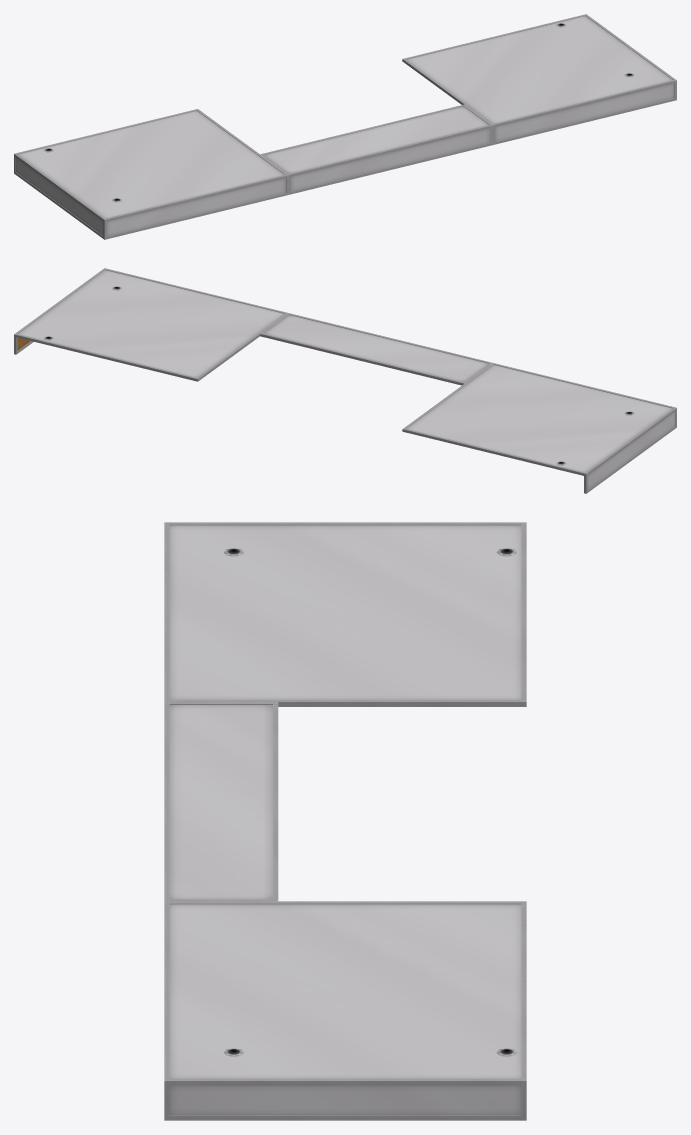
The model's file is jsf_4P_s04_c04_t02_DX.fbx.
The picture shows the model from 3 angles, top to bottom: view 1: azimuth 30°, elevation 25°; view 2: azimuth 150°, elevation 25°; view 3: azimuth 270°, elevation 25°; orthographic projection. The views are drawn at different scales.
Visible parts, largest first — view 1: jsf_4P_s04_c04_t02_DX; view 2: jsf_4P_s04_c04_t02_DX; view 3: jsf_4P_s04_c04_t02_DX.
Boxes of the visible parts, <box> form: jsf_4P_s04_c04_t02_DX: <box>14,14,676,239</box>; jsf_4P_s04_c04_t02_DX: <box>14,268,676,493</box>; jsf_4P_s04_c04_t02_DX: <box>164,522,526,1120</box>.
Bounding box in the file's own units: 378 × 12.99 × 104.
